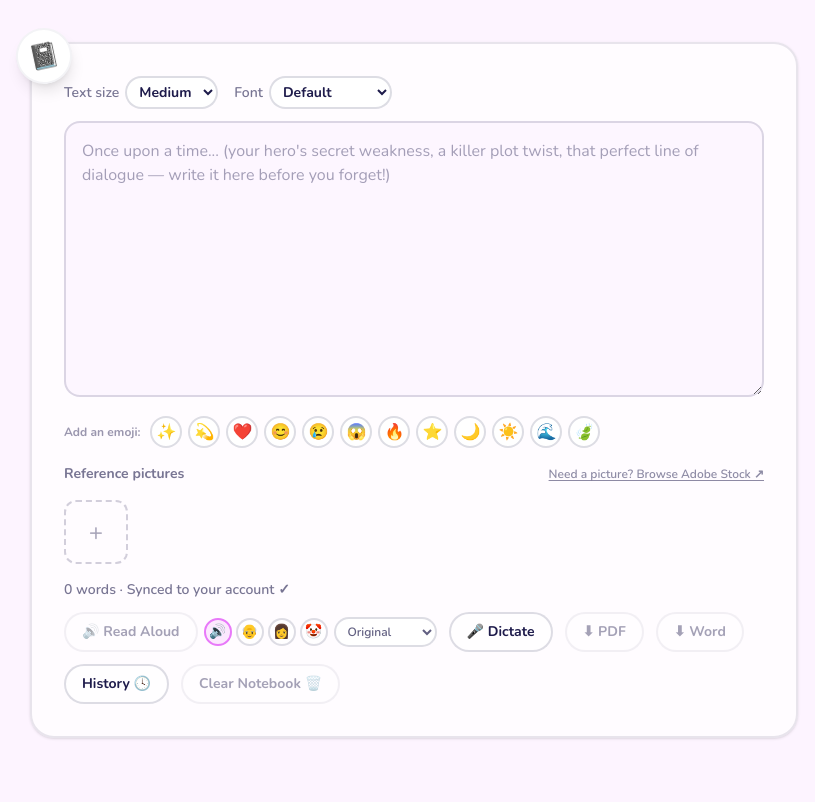
StoryNotebook history › shows the History button once signed in, with an empty state when there are no earlier drafts
(page scrolled)
Click the button "History 🕓".
click(117, 684)  # box [64,664,169,704]
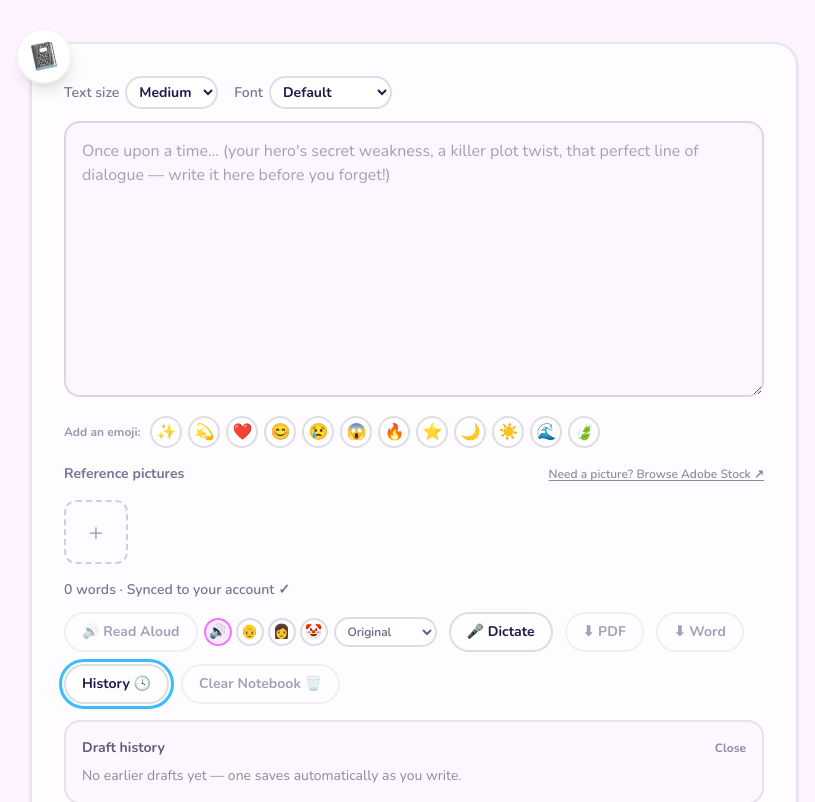
Now the text "No earlier drafts yet" is shown, box [82,766,462,785]
